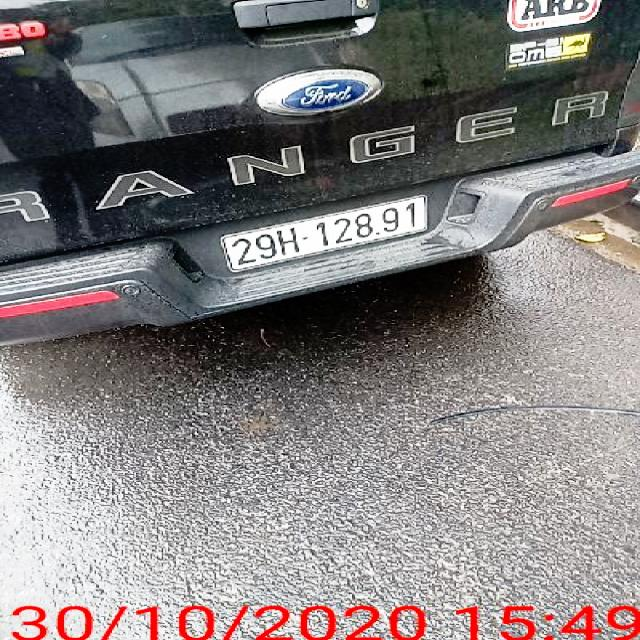license_plate: (223, 196, 429, 274)
